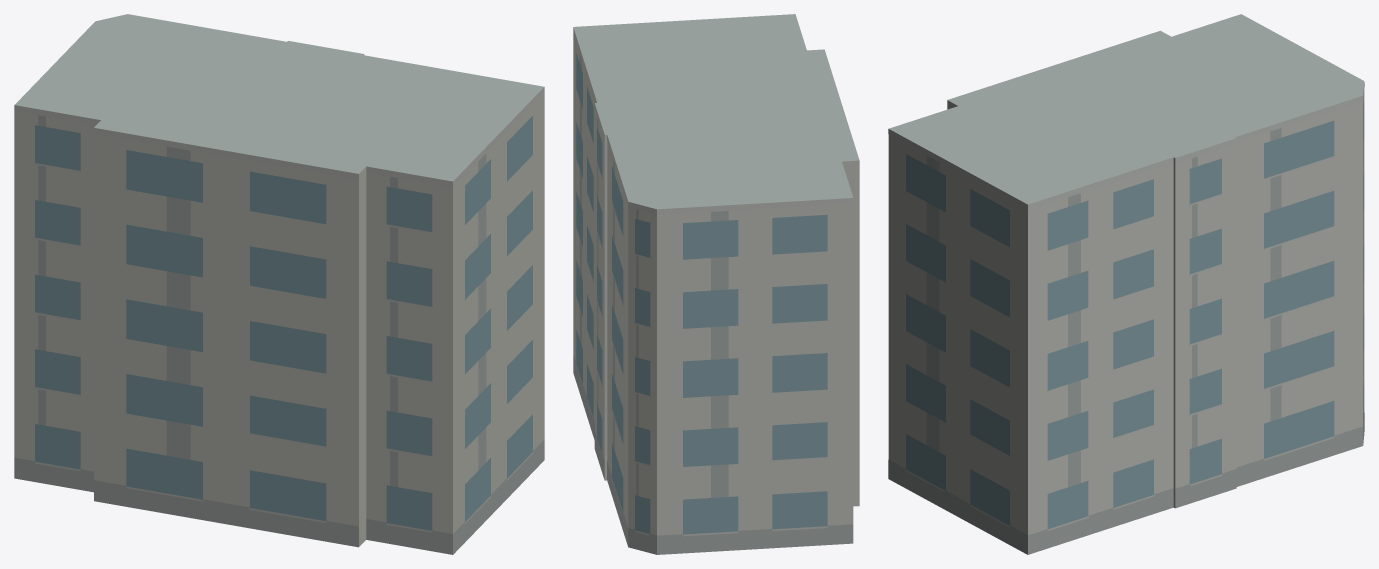
The model's file is survey-upis-32776555.glb.
3 renders of one model, left to right at view 1: azimuth 30°, elevation 25°; view 2: azimuth 150°, elevation 25°; view 3: azimuth 270°, elevation 25°, orthographic. The views are drawn at different scales.
Visible parts, largest first — view 1: survey-upis-32776555.tmp; view 2: survey-upis-32776555.tmp; view 3: survey-upis-32776555.tmp.
Boxes of the visible parts, x1,y1,x2,y2 form: survey-upis-32776555.tmp: (14, 14, 544, 554); survey-upis-32776555.tmp: (573, 14, 859, 554); survey-upis-32776555.tmp: (888, 14, 1364, 554).
Size of the model in its own units: 17.45 by 14.95 by 18.42.
